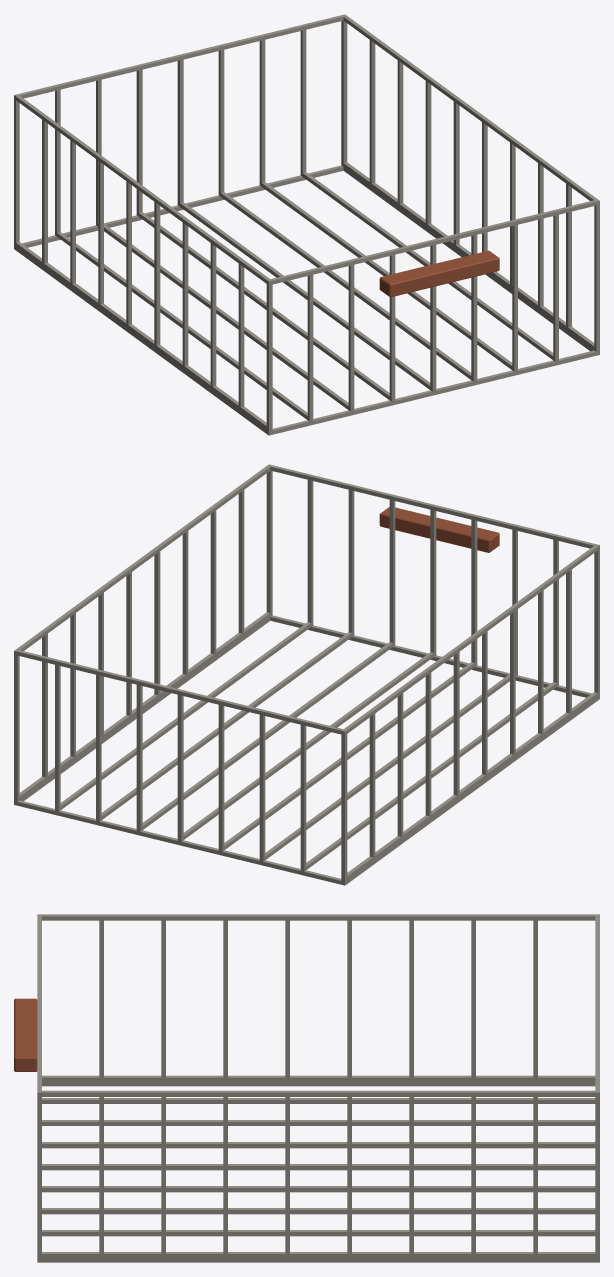
File: wardrobe_pullout_baskets_middle_basket.glb
3 views of the same model, one above another, from view 1: azimuth 30°, elevation 25°; view 2: azimuth 150°, elevation 25°; view 3: azimuth 270°, elevation 25° (orthographic). The views are drawn at different scales.
Parts seen in each view (by area): view 1: wardrobe_pullout_baskets_middle_basket.001; view 2: wardrobe_pullout_baskets_middle_basket.001; view 3: wardrobe_pullout_baskets_middle_basket.001.
Boxes of the visible parts, x1=… form: wardrobe_pullout_baskets_middle_basket.001: x1=14, y1=14, x2=599, y2=435; wardrobe_pullout_baskets_middle_basket.001: x1=14, y1=464, x2=599, y2=885; wardrobe_pullout_baskets_middle_basket.001: x1=14, y1=914, x2=599, y2=1262.
Size of the model in its own units: 0.36 by 0.16 by 0.5.
